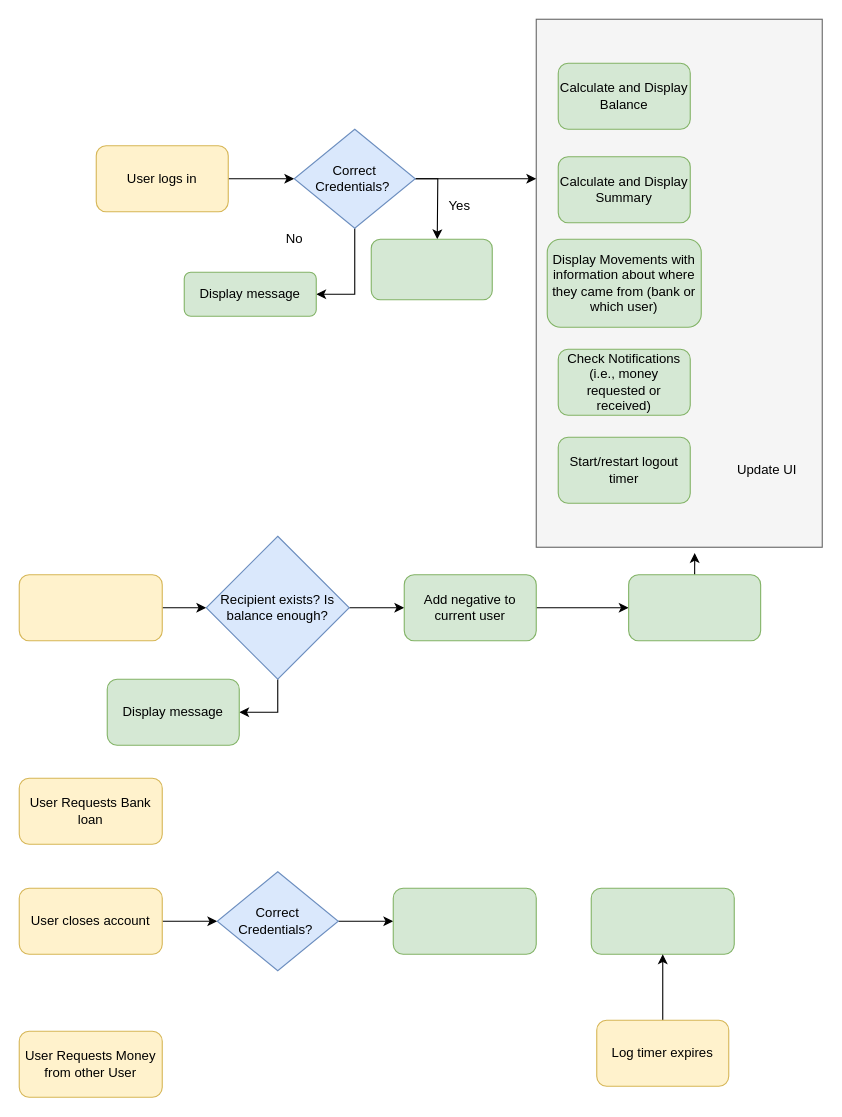
Image size: 842x1117. Some labels were removed from this diagram. Each missing label, with the centre of its shape:
"Add positive movement to recipient" belongs at pixel 694 607.
"Delete user from data" belongs at pixel 464 920.
"Display welcome message and transaction UI" belongs at pixel 431 269.
"Log user out (hide UI)" belongs at pixel 662 920.
"User Transfer Money" belongs at pixel 90 607.
